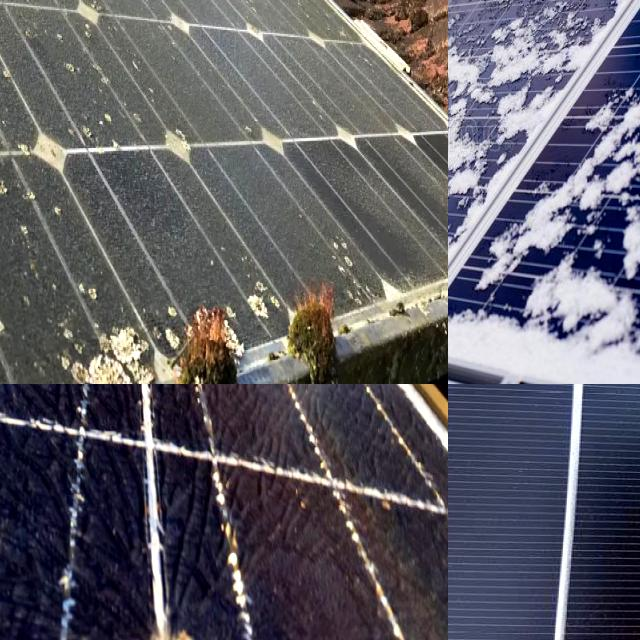dust: (95, 60, 272, 279), (281, 48, 387, 258), (0, 169, 96, 384), (0, 0, 56, 144), (21, 0, 148, 61), (164, 0, 229, 72)
hotspot: (97, 610, 244, 640)
panel: (503, 137, 613, 330), (448, 308, 640, 384), (448, 246, 591, 344), (448, 105, 542, 220), (448, 6, 572, 92), (619, 20, 640, 352), (448, 101, 499, 231), (448, 65, 494, 176), (540, 0, 640, 47), (448, 35, 510, 94), (448, 0, 519, 51), (448, 0, 500, 51), (448, 224, 472, 273)
shadow: (448, 384, 611, 454)
